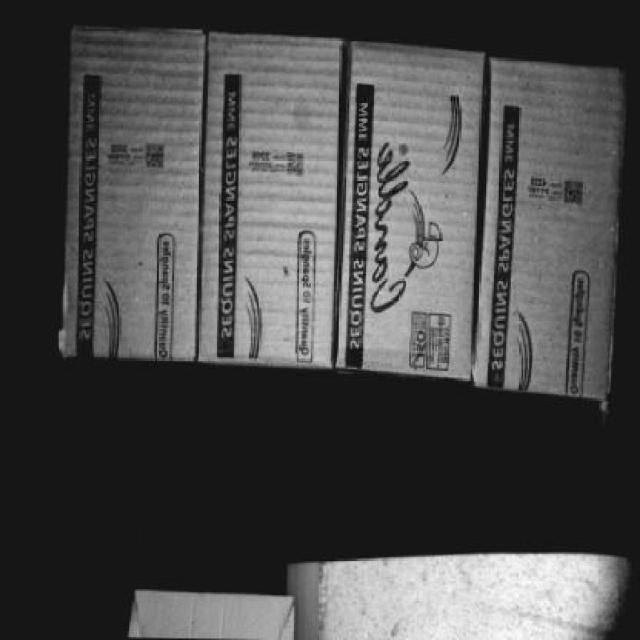cardboxes: (473, 65, 622, 398), (57, 34, 201, 363), (197, 33, 340, 356), (336, 58, 481, 374)
